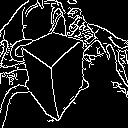cube: (21, 22, 90, 123)
